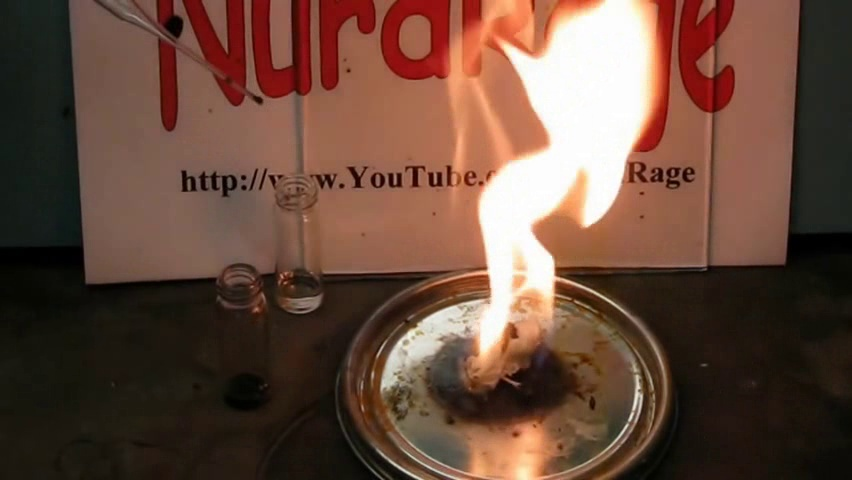fire: (432, 5, 666, 389)
